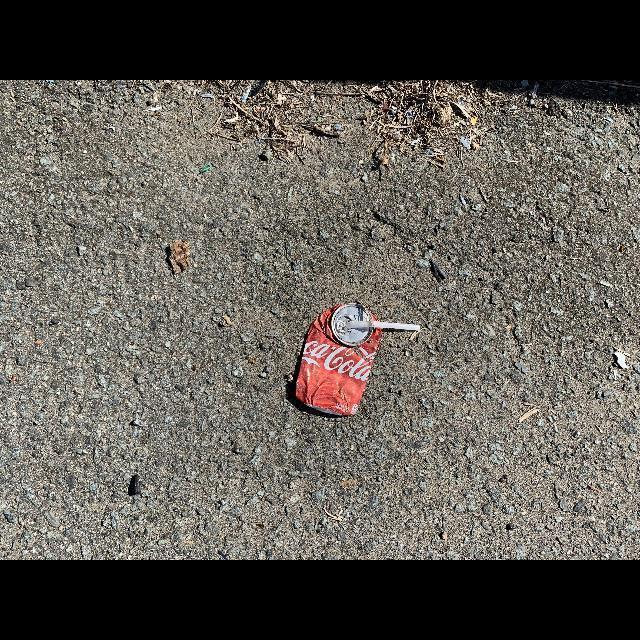Plastic: (346, 322, 419, 331)
